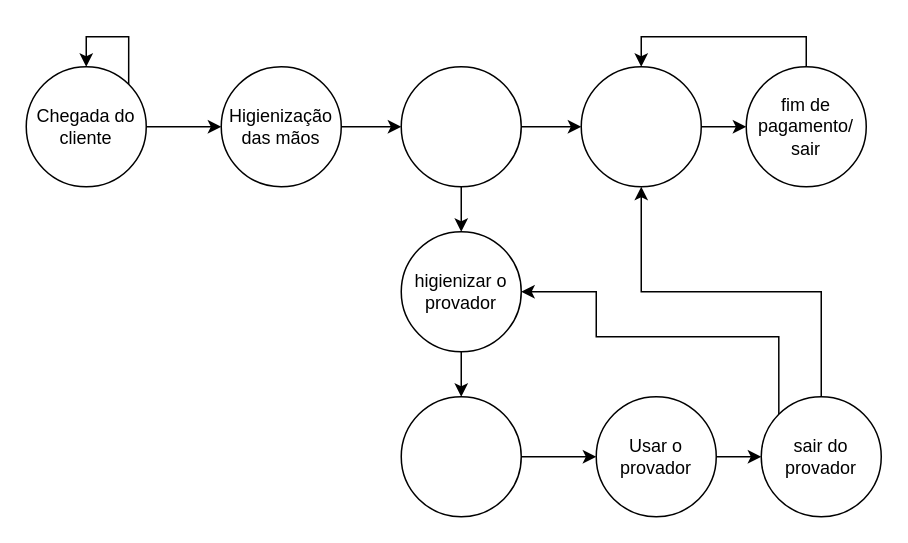
Image size: 908x543. Some labels were removed from this diagram. The shapes that lost their labels are listed below. From the top down, each one's centre as x and y in pixels, then its label:
At point (460, 126): "Decisão".
At point (640, 126): "inicio de pagamento".
At point (460, 456): "fim de higienizar o provador".
